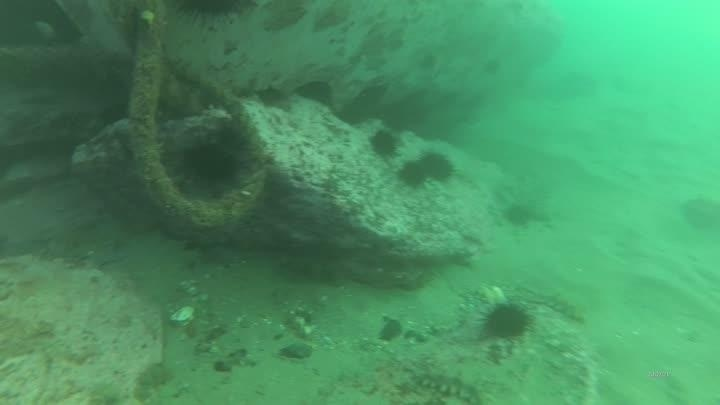echinus: (179, 138, 243, 190), (169, 1, 258, 33), (480, 300, 533, 342), (417, 149, 457, 185), (294, 78, 336, 109), (367, 127, 402, 161), (501, 200, 538, 231), (396, 158, 431, 190)
holothurian: (408, 365, 486, 404), (524, 286, 589, 326)
